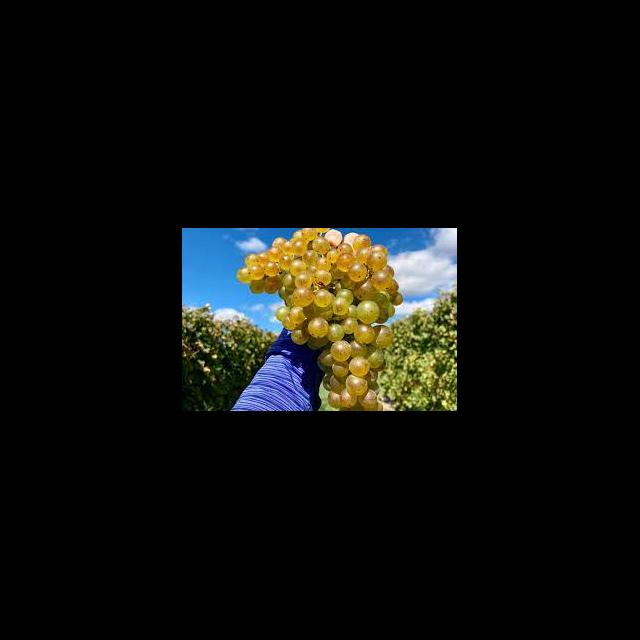grape: (236, 228, 404, 410)
